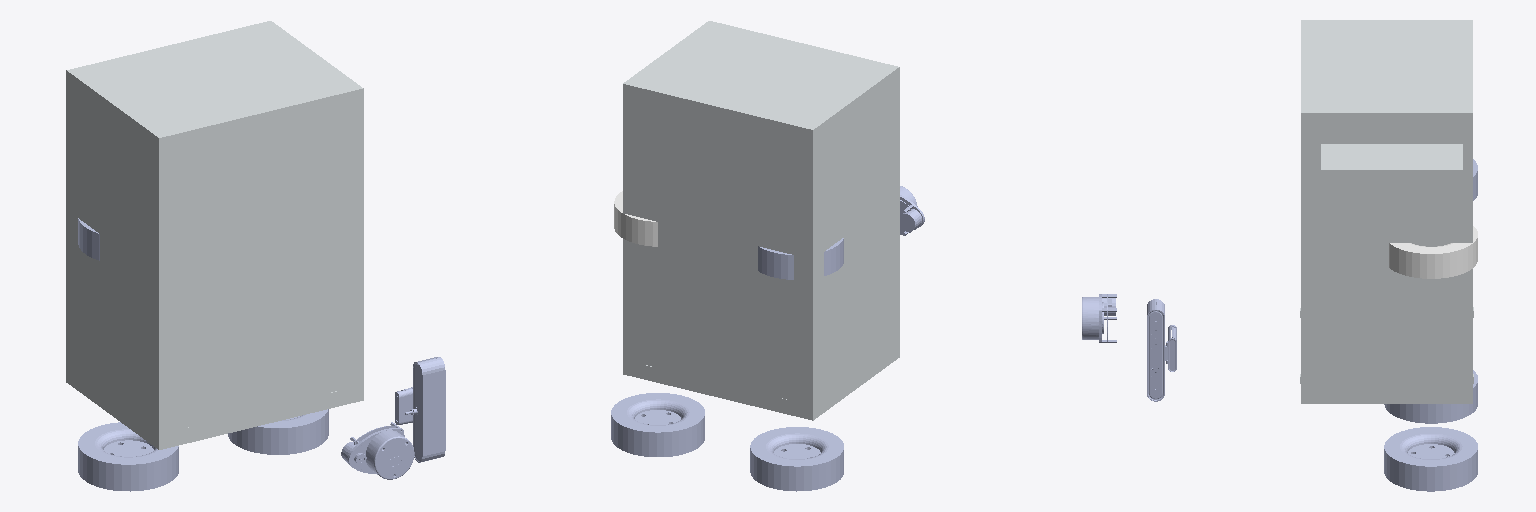
The robot description file, URDF, robot "my_urdf":
<?xml version="1.0" encoding="utf-8"?>
<robot name="my_urdf">
  <link
    name="base_footprint">
    <inertial>
      <origin
        xyz="0.010935 -0.030407 0.054599"
        rpy="0 0 0" />
      <mass
        value="0.92997" />
      <inertia
        ixx="0.0079514"
        ixy="-1.1522E-08"
        ixz="5.938E-10"
        iyy="0.012166"
        iyz="2.7431E-08"
        izz="0.019879" />
    </inertial>
    <visual>
      <origin
        xyz="0 0 0.04"
        rpy="0 0 0" />
      <geometry>
        <mesh
          filename="package://custom_urdf/src/meshes/my_urdf/base_footprint.STL" />
      </geometry>
      <material
        name="">
        <color
          rgba="0.89804 0.91765 0.92941 1" />
      </material>
    </visual>
    <collision>
      <origin
        xyz="0 0 0"
        rpy="0 0 0" />
      <geometry>
        <mesh
          filename="package://custom_urdf/src/meshes/my_urdf/base_footprint.STL" />
      </geometry>
    </collision>
  </link>

  <link
    name="front_right_link">
    <inertial>
      <origin
        xyz="-0.000233568800549525 0.00388215224949372 0.219535415875818"
        rpy="0 0 0" />
      <mass
        value="48.9383586991974" />
      <inertia
        ixx="1.56913843574981"
        ixy="-0.00154016843274957"
        ixz="0.00211023847469076"
        iyy="1.44343461593917"
        iyz="-0.0373053138883436"
        izz="0.925134371309634" />
    </inertial>
    <visual>
      <origin
        xyz="0 0 -.05"
        rpy="0 0 1.57079632679 " />
      <geometry>
        <mesh
          filename="package://custom_urdf/src/meshes/my_urdf/front_left_link.STL" />
      </geometry>
      <material
        name="">
        <color
          rgba="1 1 1 1" />
      </material>
    </visual>
    <collision>
      <origin
        xyz="0 0 0"
        rpy="0 0 0" />
      <geometry>
        <mesh
          filename="package://custom_urdf/src/meshes/my_urdf/front_left_link.STL" />
      </geometry>
    </collision>
  </link>
  <joint
    name="front_right_joint"
    type="fixed">
    <origin
      xyz="0 0 0"
      rpy="1.5707963267949 0 0" />
    <parent
      link="base_footprint" />
    <child
      link="front_right_link" />
  </joint>

  <link
    name="front_left_link">
    <inertial>
      <origin
        xyz="0.188595 -0.127032541922988 -0.0202995473440542"
        rpy="0 0 0" />
      <mass
        value="0.672106314046843" />
      <inertia
        ixx="0.0022358710882711"
        ixy="-7.01375136593397E-22"
        ixz="-1.64781567191005E-20"
        iyy="0.00121367321204965"
        iyz="-1.72672243645025E-07"
        izz="0.00121370362180427" />
    </inertial>
    <visual>
      <origin
        xyz="0.26 0 -.05"
        rpy="0 0 -1.57079632679 " />
      <geometry>
        <mesh
          filename="package://my_urdf/meshes/front_left_link.STL" />
      </geometry>
      <material
        name="">
        <color
          rgba="0.792156862745098 0.819607843137255 0.933333333333333 1" />
      </material>
    </visual>
    <collision>
      <origin
        xyz="0 0 0"
        rpy="0 0 0" />
      <geometry>
        <mesh
          filename="package://my_urdf/meshes/front_left_link.STL" />
      </geometry>
    </collision>
  </link>
  <joint
    name="front_left_joint"
    type="revolute">
    <origin
      xyz="0 0 0"
      rpy="1.5707963267949 0 0" />
    <parent
      link="base_footprint" />
    <child
      link="front_left_link" />
    <axis
      xyz="1 0 0" />
    <limit
      lower="0"
      upper="0"
      effort="0"
      velocity="0" />
  </joint>

  <link
    name="back_left_link">
    <inertial>
      <origin
        xyz="0.188595 0.126968611638409 -0.0203013899175233"
        rpy="0 0 0" />
      <mass
        value="0.672106314046843" />
      <inertia
        ixx="0.0022358710882711"
        ixy="-1.47749794835115E-20"
        ixz="-5.08498084480825E-21"
        iyy="0.001213728039212"
        iyz="-1.68751197173603E-07"
        izz="0.00121364879464192" />
    </inertial>
    <visual>
      <origin
        xyz="0 0 -.05"
        rpy="0 0 1.5707963267949" />
      <geometry>
        <mesh
          filename="package://my_urdf/meshes/back_left_link.STL" />
      </geometry>
      <material
        name="">
        <color
          rgba="0.792156862745098 0.819607843137255 0.933333333333333 1" />
      </material>
    </visual>
    <collision>
      <origin
        xyz="0 0 0"
        rpy="0 0 0" />
      <geometry>
        <mesh
          filename="package://my_urdf/meshes/back_left_link.STL" />
      </geometry>
    </collision>
  </link>
  <joint
    name="back_left_joint"
    type="revolute">
    <origin
      xyz="0 0 0"
      rpy="1.5707963267949 0 0" />
    <parent
      link="base_footprint" />
    <child
      link="back_left_link" />
    <axis
      xyz="1 0 0" />
    <limit
      lower="0"
      upper="0"
      effort="0"
      velocity="0" />
  </joint>

  <link
    name="back_right_link">
    <inertial>
      <origin
        xyz="-0.188595 0.127041605346971 -0.0204638010416092"
        rpy="0 0 0" />
      <mass
        value="0.672106314046843" />
      <inertia
        ixx="0.0022358710882711"
        ixy="1.18669985448161E-20"
        ixz="4.77668952557858E-22"
        iyy="0.00121366878208572"
        iyz="1.72224751499544E-07"
        izz="0.0012137080517682" />
    </inertial>
    <visual>
      <origin
        xyz="0 0 -.05"
        rpy="0 0 1.5707963267949" />
      <geometry>
        <mesh
          filename="package://my_urdf/meshes/back_right_link.STL" />
      </geometry>
      <material
        name="">
        <color
          rgba="0.792156862745098 0.819607843137255 0.933333333333333 1" />
      </material>
    </visual>
    <collision>
      <origin
        xyz="0 0 0"
        rpy="0 0 0" />
      <geometry>
        <mesh
          filename="package://my_urdf/meshes/back_right_link.STL" />
      </geometry>
    </collision>
  </link>
  <joint
    name="back_right_joint"
    type="revolute">
    <origin
      xyz="0 0 0"
      rpy="1.5707963267949 0 0" />
    <parent
      link="base_footprint" />
    <child
      link="back_right_link" />
    <axis
      xyz="1 0 0" />
    <limit
      lower="0"
      upper="0"
      effort="0"
      velocity="0" />
  </joint>

  <link
    name="base_laser">
    <inertial>
      <origin
        xyz="0.00548449682867642 -0.00227401415844783 0.513423127732833"
        rpy="0 0 0" />
      <mass
        value="0.170611427740059" />
      <inertia
        ixx="0.000123166325080503"
        ixy="1.02818502430435E-07"
        ixz="3.96362803317277E-07"
        iyy="7.88356333895355E-05"
        iyz="2.02875674243666E-05"
        izz="0.00014078871798285" />
    </inertial>
    <visual>
      <origin
        xyz="0 0 -.04"
        rpy="0 0 1.5707963267949" />
      <geometry>
        <mesh
          filename="package://my_urdf/meshes/base_laser.STL" />
      </geometry>
      <material
        name="">
        <color
          rgba="0.792156862745098 0.819607843137255 0.933333333333333 1" />
      </material>
    </visual>
    <collision>
      <origin
        xyz="0 0 0"
        rpy="0 0 0" />
      <geometry>
        <mesh
          filename="package://my_urdf/meshes/base_laser.STL" />
      </geometry>
    </collision>
  </link>
  <joint
    name="baser_laser_joint"
    type="fixed">
    <origin
      xyz="0 0 0"
      rpy="1.5707963267949 0 0" />
    <parent
      link="base_footprint" />
    <child
      link="base_laser" />
    <axis
      xyz="0 0 0" />
  </joint>

    <link
    name="base_camera">
    <inertial>
      <origin
        xyz="0.00816075461061211 -0.156095902491559 0.405890121378547"
        rpy="0 0 0" />
      <mass
        value="0.220449863399617" />
      <inertia
        ixx="4.67299149630673E-05"
        ixy="-4.59364629457927E-08"
        ixz="5.50364242676411E-09"
        iyy="0.000406106730886343"
        iyz="-1.59318277923789E-07"
        izz="0.000425232439456108" />
    </inertial>
    <visual>
      <origin
        xyz="-.02 0 -.035"
        rpy="0 0 1.5707963267949" />
      <geometry>
        <mesh
          filename="package://my_urdf/meshes/base_camera.STL" />
      </geometry>
      <material
        name="">
        <color
          rgba="0.792156862745098 0.819607843137255 0.933333333333333 1" />
      </material>
    </visual>
    <collision>
      <origin
        xyz="0 0 0"
        rpy="0 0 0" />
      <geometry>
        <mesh
          filename="package://my_urdf/meshes/base_camera.STL" />
      </geometry>
    </collision>
  </link>
  <joint
    name="base_camera_joint"
    type="fixed">
    <origin
      xyz="0 0 0"
      rpy="1.5707963267949 0 0" />
    <parent
      link="base_footprint" />
    <child
      link="base_camera" />
    <axis
      xyz="0 0 0" />
  </joint>

  

</robot>

--- Facts derived from the render (not from the file) ---
Views: 3 orthographic renders of the robot side by side, from view 1: azimuth 30°, elevation 25°; view 2: azimuth 150°, elevation 25°; view 3: azimuth 270°, elevation 25°.
Robot: my_urdf — 7 links, 6 joints (3 revolute, 3 fixed); root link base_footprint; default pose: every joint at zero.
Visible links, largest first — view 1: base_footprint, back_right_link, base_camera, front_left_link, base_laser, back_left_link; view 2: base_footprint, front_left_link, back_right_link, back_left_link, front_right_link, base_laser; view 3: base_footprint, front_left_link, front_right_link, base_camera, back_right_link, base_laser.
Link boxes in pixels (x1=…): base_footprint: x1=66, y1=21, x2=363, y2=449; back_right_link: x1=78, y1=422, x2=178, y2=491; base_camera: x1=395, y1=357, x2=445, y2=462; front_left_link: x1=228, y1=409, x2=328, y2=454; base_laser: x1=341, y1=422, x2=414, y2=479; back_left_link: x1=78, y1=218, x2=99, y2=260; base_footprint: x1=623, y1=21, x2=899, y2=420; front_left_link: x1=611, y1=393, x2=704, y2=456; back_right_link: x1=750, y1=427, x2=843, y2=491; back_left_link: x1=758, y1=238, x2=843, y2=279; front_right_link: x1=614, y1=191, x2=657, y2=246; base_laser: x1=900, y1=186, x2=924, y2=235; base_footprint: x1=1300, y1=20, x2=1473, y2=403; front_left_link: x1=1384, y1=427, x2=1477, y2=491; front_right_link: x1=1389, y1=226, x2=1477, y2=278; base_camera: x1=1147, y1=299, x2=1176, y2=401; back_right_link: x1=1384, y1=370, x2=1477, y2=423; base_laser: x1=1082, y1=294, x2=1116, y2=342.
Size in the robot's own frame: 0.412 by 0.6425 by 0.653 metres.
7 mesh visuals loaded from 7 distinct referenced files (6 binary STL).
